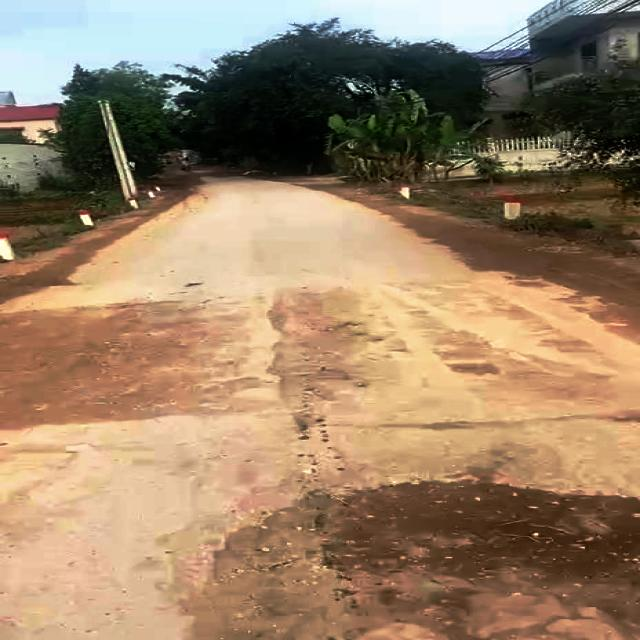pothole: (165, 471, 640, 640)
